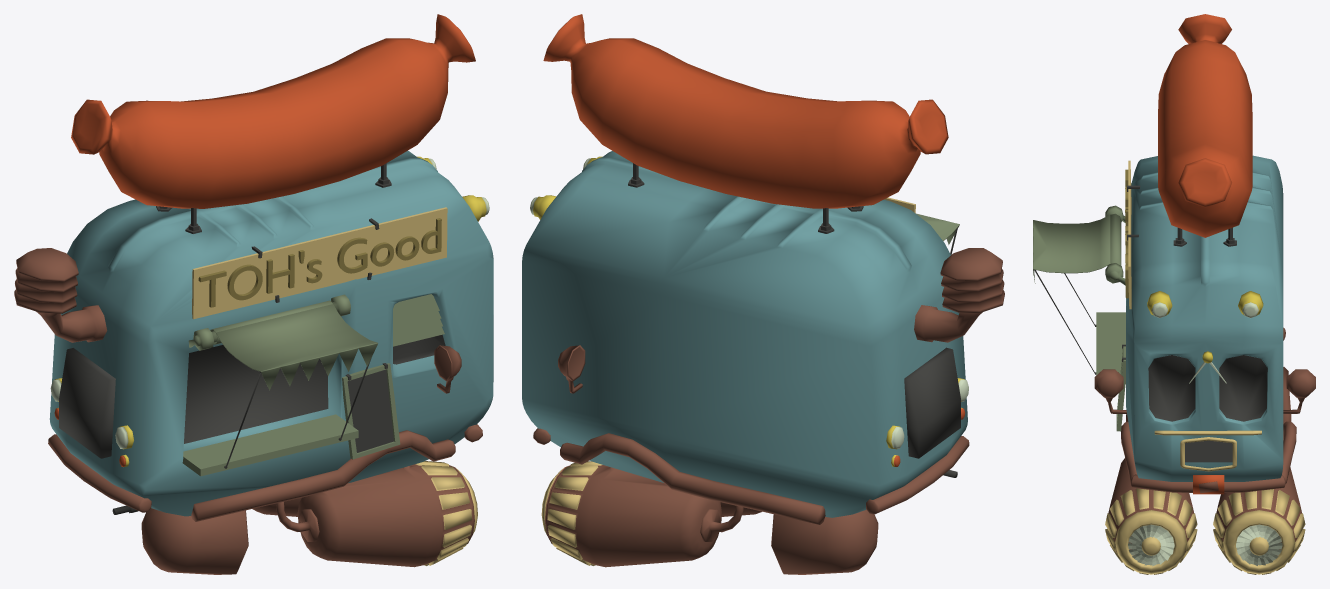
The model's file is Hot_Dog_Stand_V1.fbx.
The picture shows the model from 3 angles, left to right: view 1: azimuth 30°, elevation 25°; view 2: azimuth 150°, elevation 25°; view 3: azimuth 270°, elevation 25°; orthographic projection. The views are drawn at different scales.
Parts seen in each view (by area): view 1: Hot_Dog_Stand; view 2: Hot_Dog_Stand; view 3: Hot_Dog_Stand.
Part boxes in pixels (<box>): Hot_Dog_Stand: <box>14,14,493,574</box>; Hot_Dog_Stand: <box>522,14,1004,574</box>; Hot_Dog_Stand: <box>1033,14,1315,574</box>.
Bounding box in the file's own units: 1233 × 1327 × 782.
Materials: 1 (1 with a texture image).
